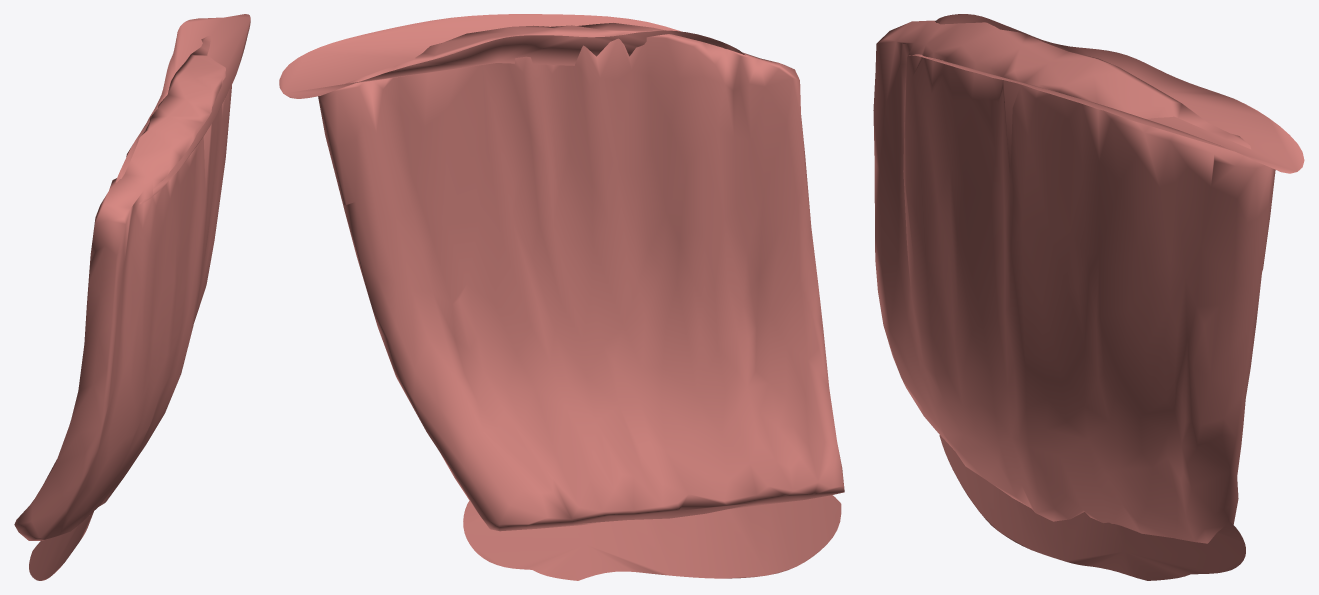
Rendered from fma46612_mm1201.glb.
3 views of the same model, side by side, from view 1: azimuth 30°, elevation 25°; view 2: azimuth 150°, elevation 25°; view 3: azimuth 270°, elevation 25° (orthographic). The views are drawn at different scales.
Parts seen in each view (by area): view 1: FMA46612_MM1201; view 2: FMA46612_MM1201; view 3: FMA46612_MM1201.
Part boxes in pixels (x1,y1,x2,y2): FMA46612_MM1201: (14, 14, 250, 580); FMA46612_MM1201: (279, 14, 844, 580); FMA46612_MM1201: (873, 14, 1304, 580).
Bounding box in the file's own units: 0.00812 × 0.00982 × 0.00653.
